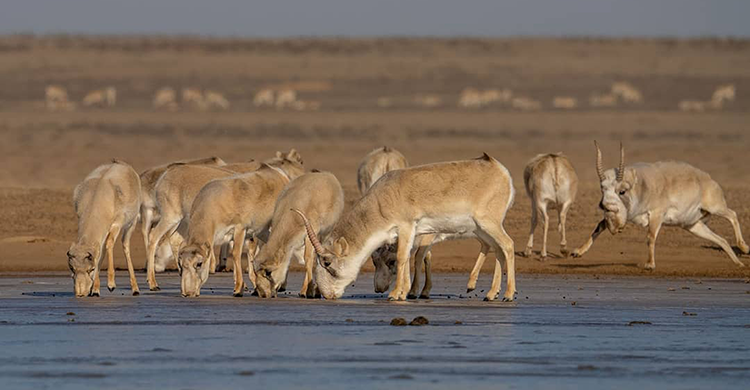saiga: (301, 152, 520, 310), (570, 134, 747, 269)
